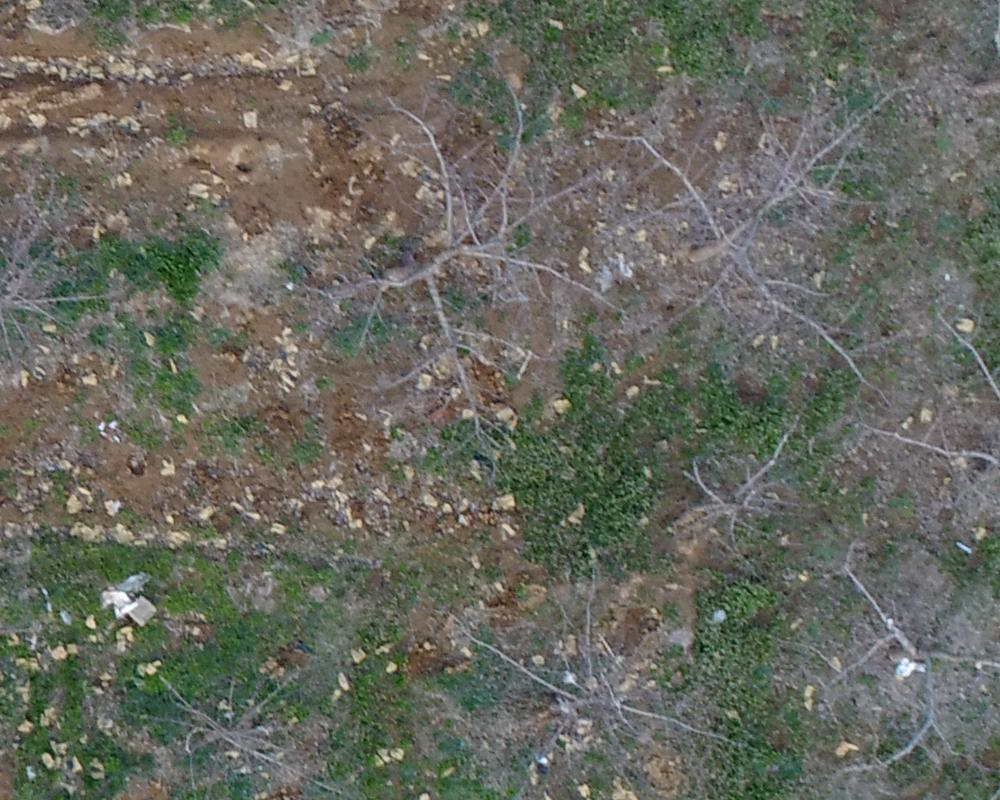apple: (332, 82, 622, 418), (600, 90, 902, 381), (452, 554, 743, 787), (773, 539, 990, 768), (144, 654, 349, 790), (10, 161, 115, 406), (650, 431, 822, 549)
